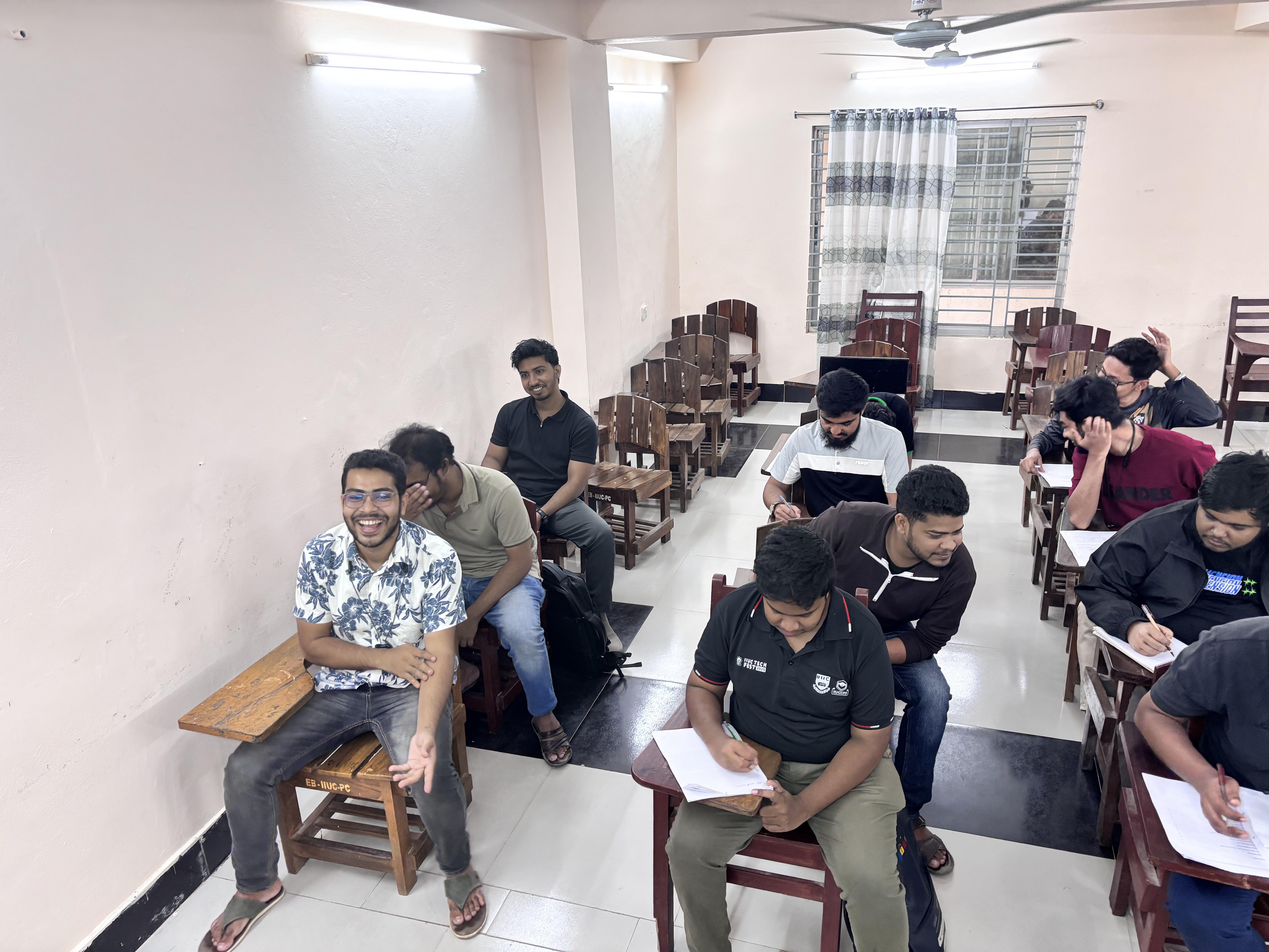copying: (789, 465, 997, 645)
no_cheating: (670, 541, 882, 900), (1093, 464, 1269, 664), (759, 367, 897, 521)
side_talking: (1039, 374, 1223, 536)
suspicious_moving: (250, 434, 445, 821), (460, 324, 619, 505), (374, 392, 524, 581), (1062, 306, 1219, 427)
